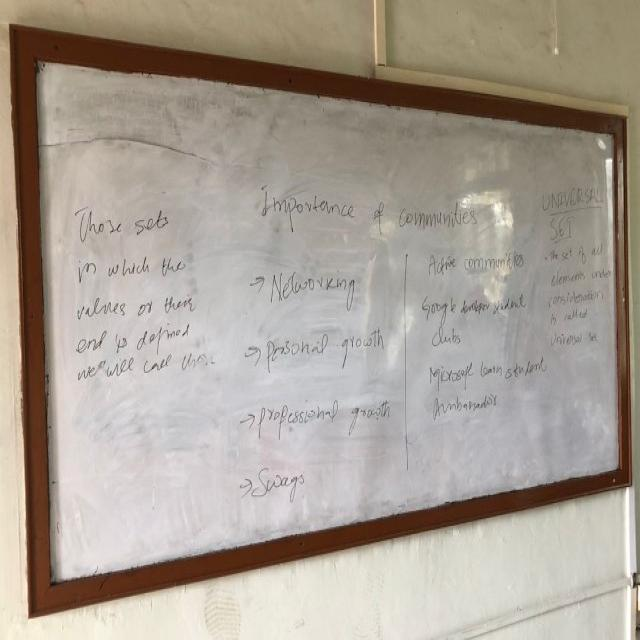White-board: (22, 42, 626, 608)
